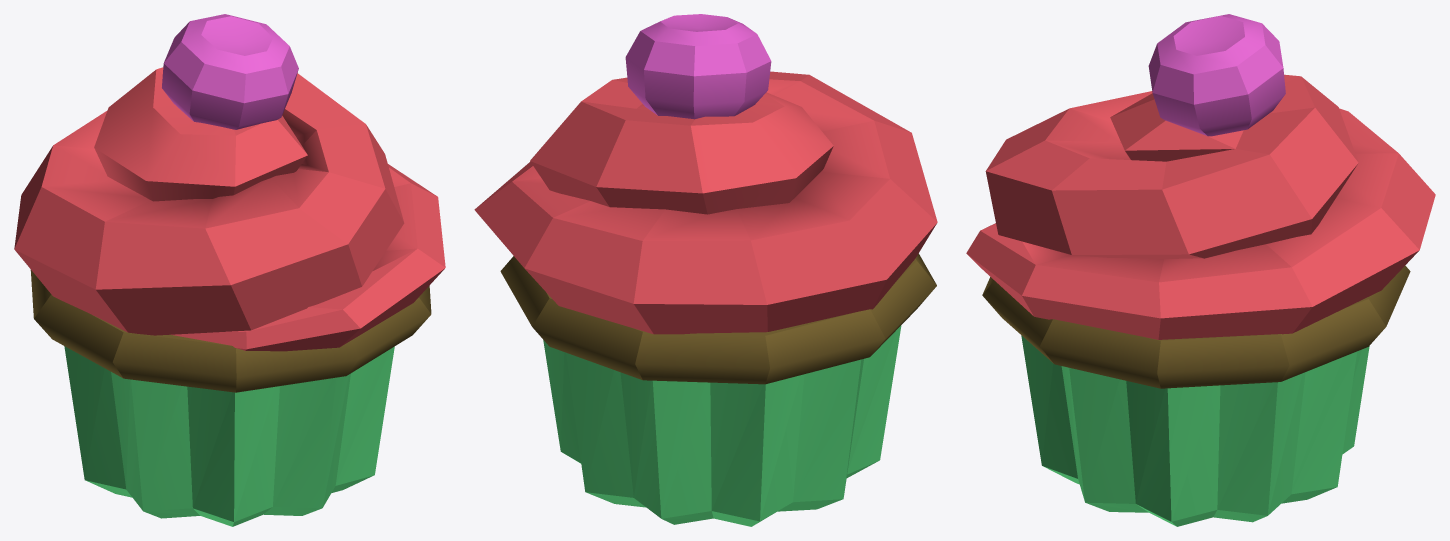
The model's file is korpica sa filom i visnjom.fbx.
3 views of the same model, side by side, from view 1: azimuth 30°, elevation 25°; view 2: azimuth 150°, elevation 25°; view 3: azimuth 270°, elevation 25° (orthographic). The views are drawn at different scales.
Visible parts, largest first — view 1: PW_cupcake_cherry.006; view 2: PW_cupcake_cherry.006; view 3: PW_cupcake_cherry.006.
Part boxes in pixels (x1=…): PW_cupcake_cherry.006: x1=14, y1=14, x2=445, y2=526; PW_cupcake_cherry.006: x1=474, y1=14, x2=937, y2=526; PW_cupcake_cherry.006: x1=966, y1=14, x2=1435, y2=526.
Bounding box in the file's own units: 19.98 × 22.15 × 20.78.
